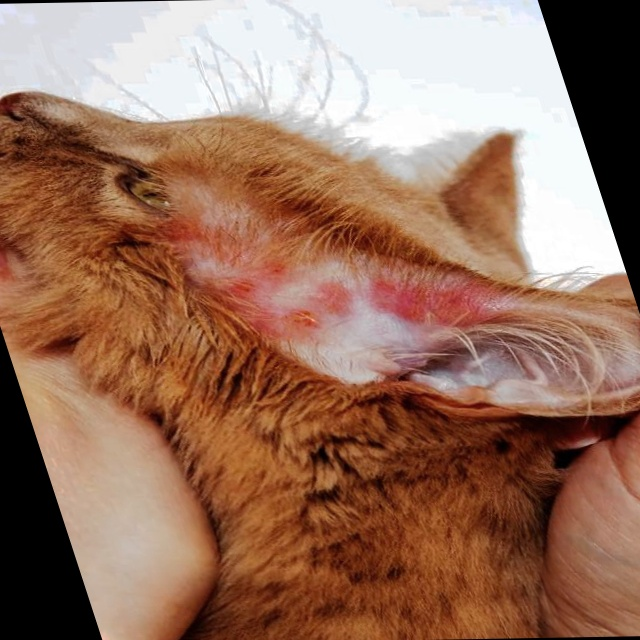ringworm: (168, 211, 463, 335)
